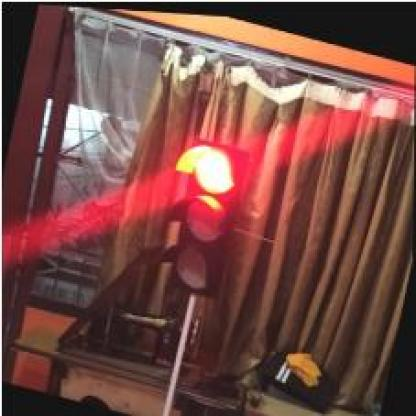red: (152, 132, 249, 297)
